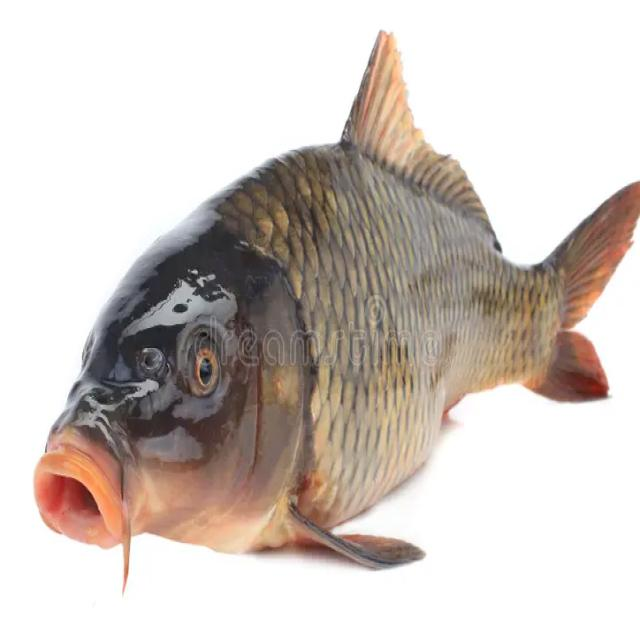Common carp: (35, 33, 640, 593)
